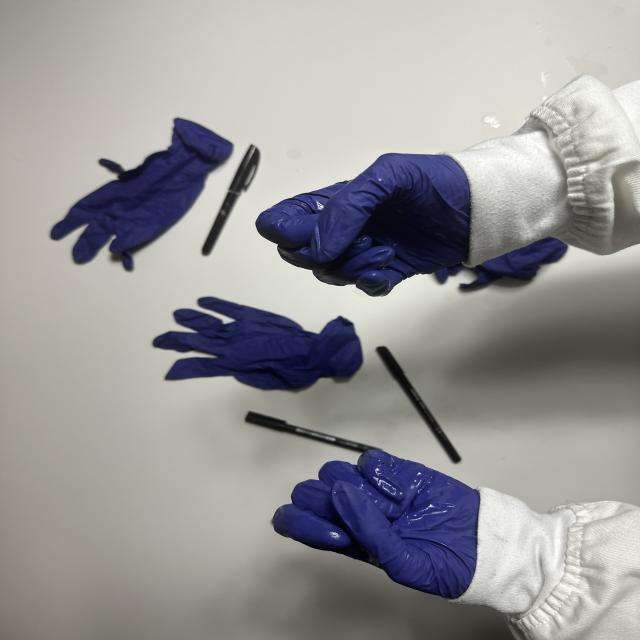gloves_contaminated: (273, 451, 480, 599), (256, 154, 471, 296)
